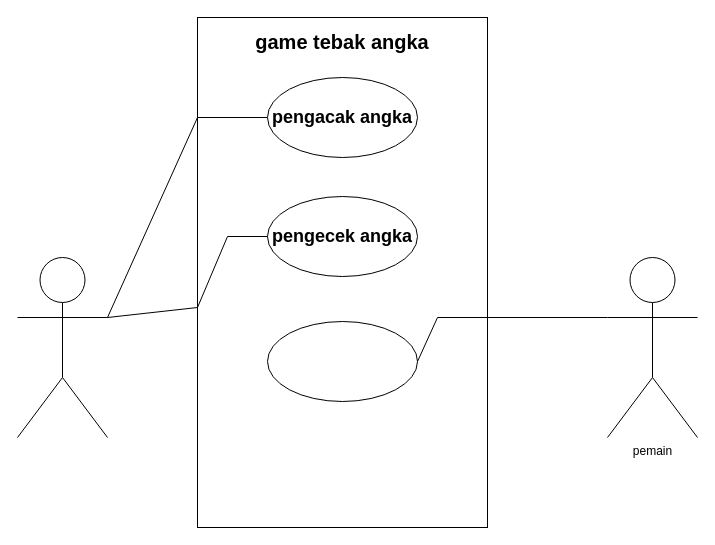
Image size: 715x545. Some labels were removed from this diagram. Here are the shapes that lost their labels. From the top down, the centre of each, then its label:
At (x=62, y=347): "komputer".
At (x=342, y=361): "penebak angka".
